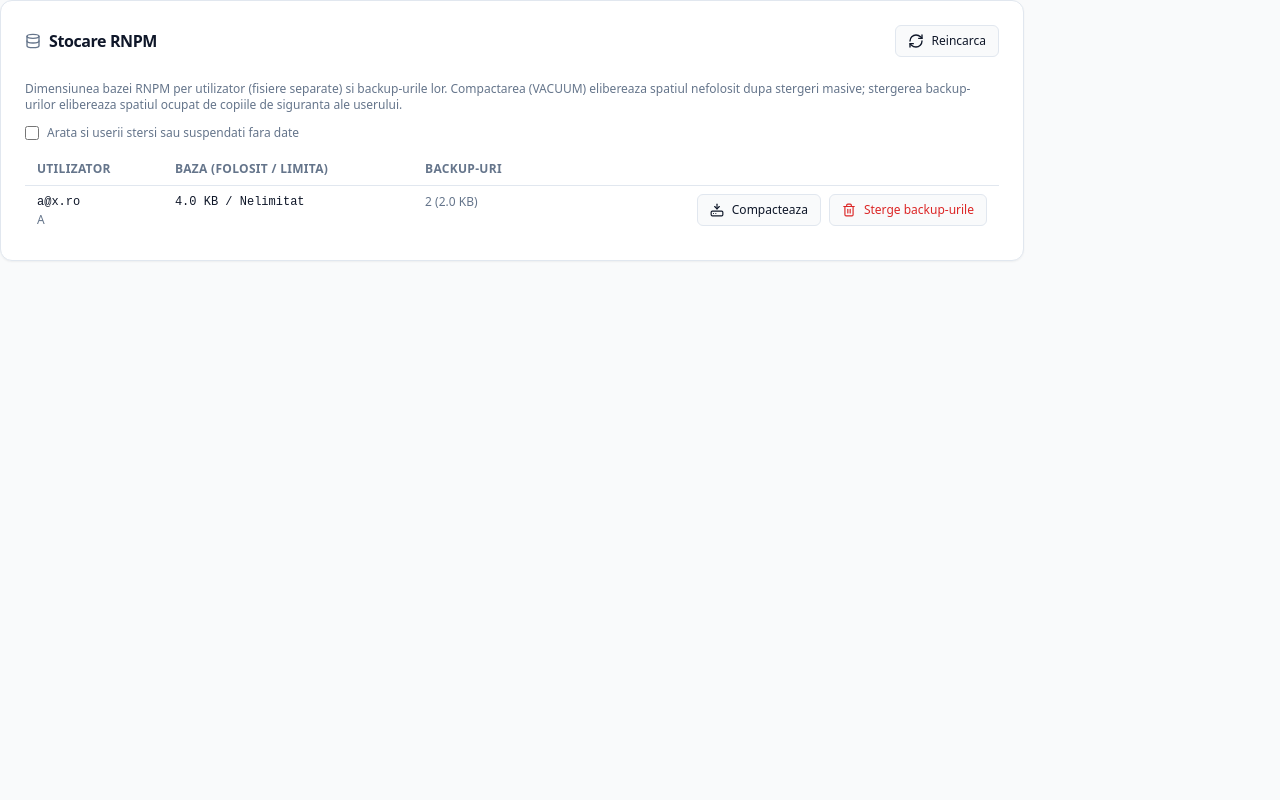
Test case: AdminRnpmStorage (embedded) › butonul Sterge backup-urile cere confirmare destructiva si apeleaza rnpmDeleteBackups cu ownerId-ul randului
Click the button "Sterge backup-urile". click: (908, 210)
box: x1=829 y1=194 x2=987 y2=226
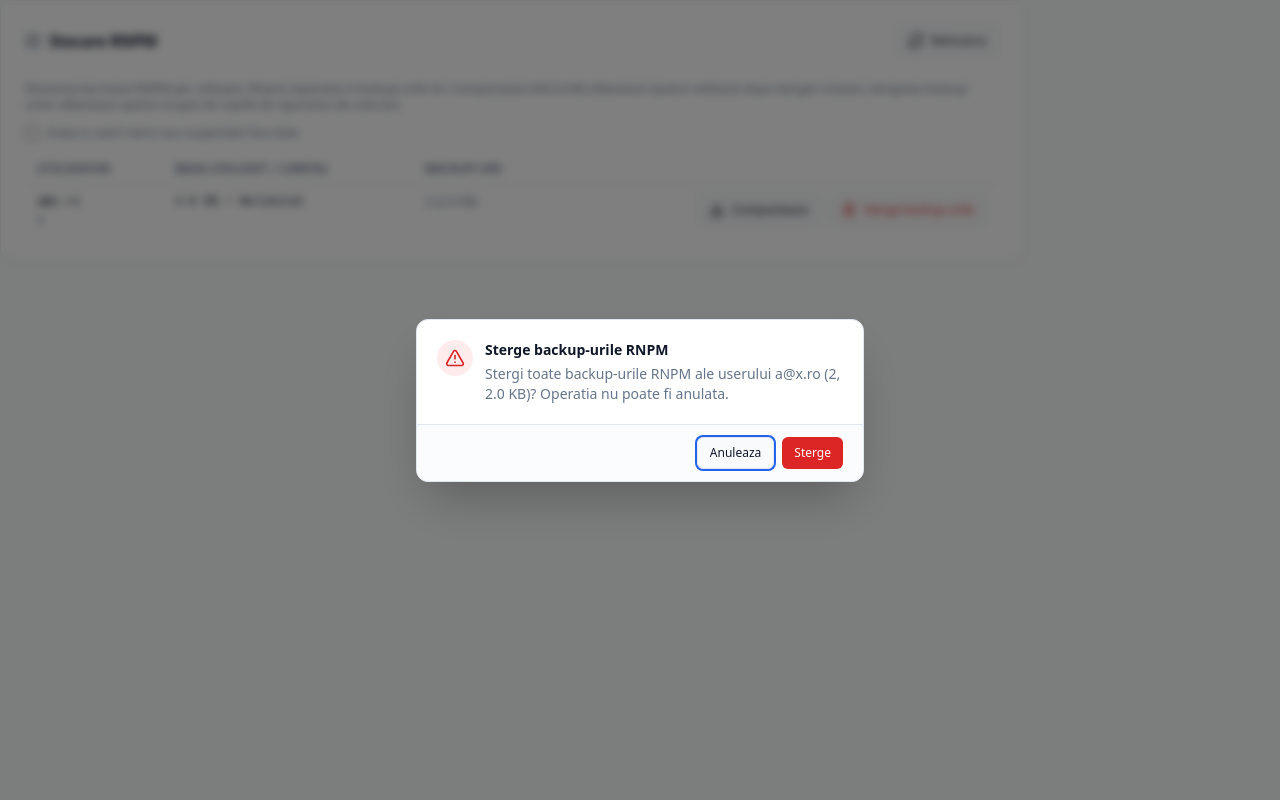
Click the button "Sterge". click: (813, 452)
box: x1=782 y1=436 x2=843 y2=468
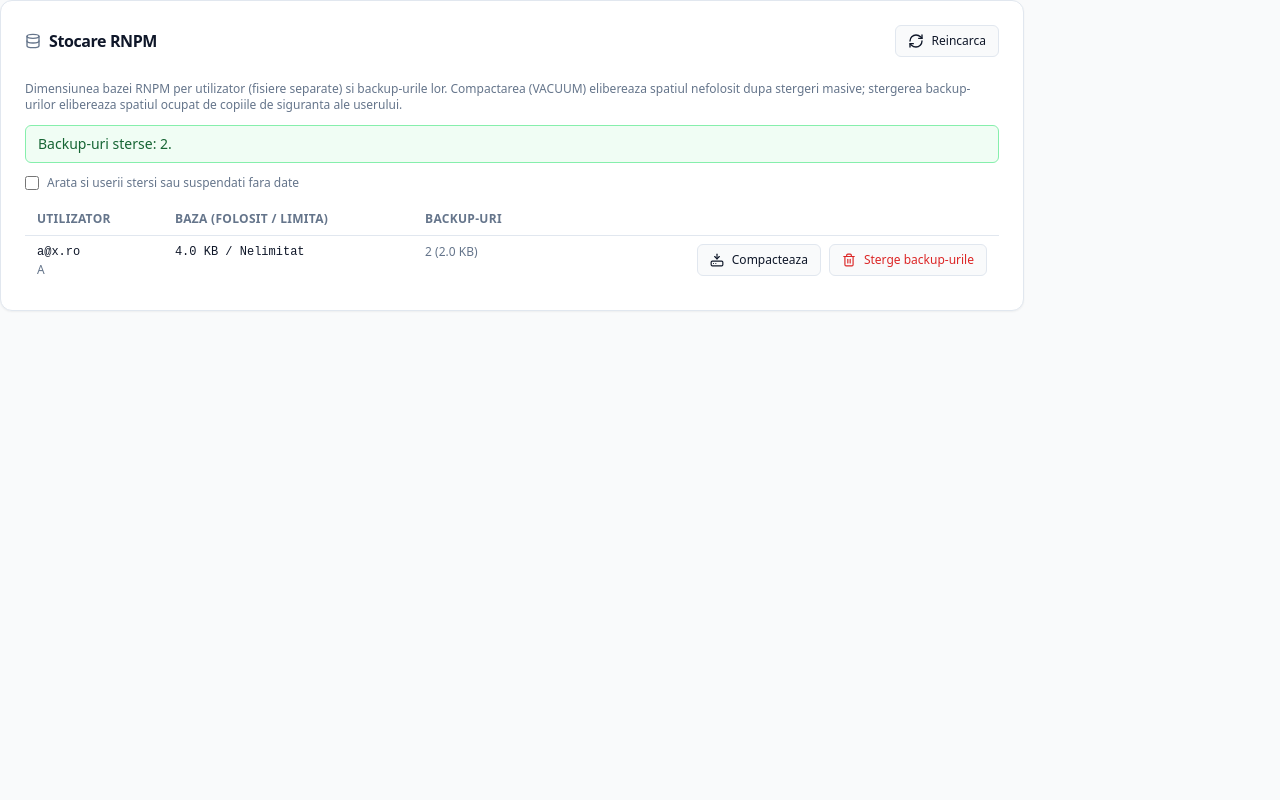
Expected: the text "Backup-uri sterse: 2" is shown, x1=38 y1=134 x2=172 y2=153
